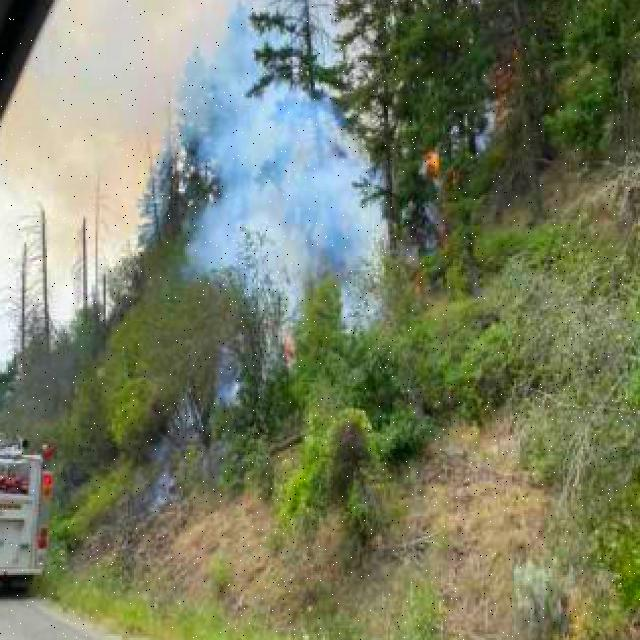fire: (423, 140, 445, 181)
smoke: (167, 4, 390, 386)
